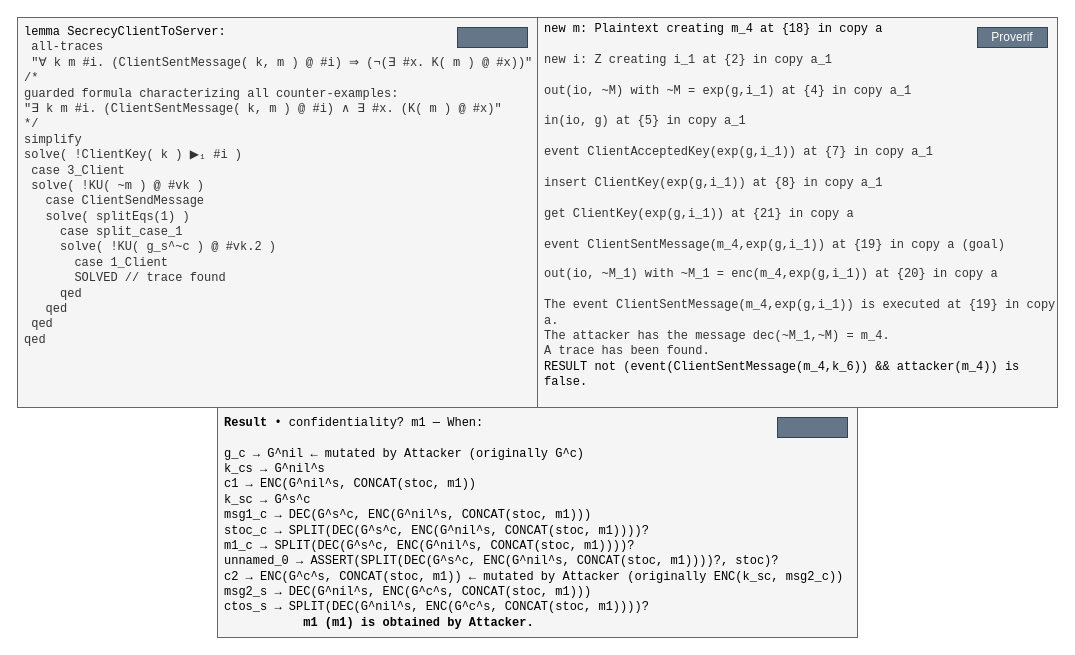
Image size: 1075x655. Some labels were removed from this diagram. The shapes that lost their labels are listed below. From the top down, each one's centre as x and y in pixels, then its label:
At (x=492, y=37): "Tamarin".
At (x=812, y=427): "Verifpal".
